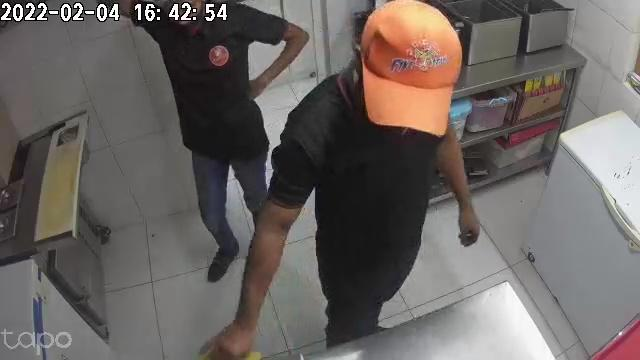no_gloves: (457, 202, 480, 248)
